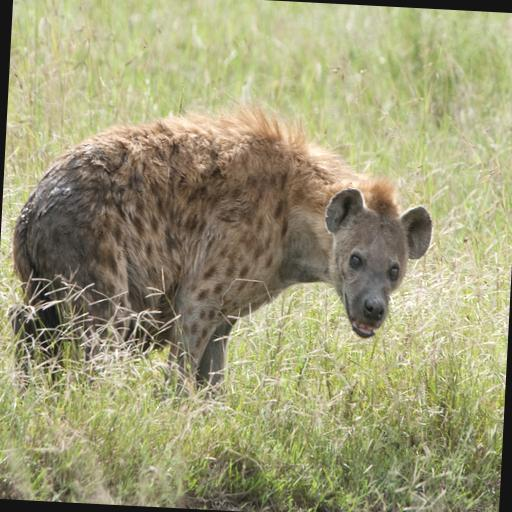hyenas: (0, 90, 448, 426)
